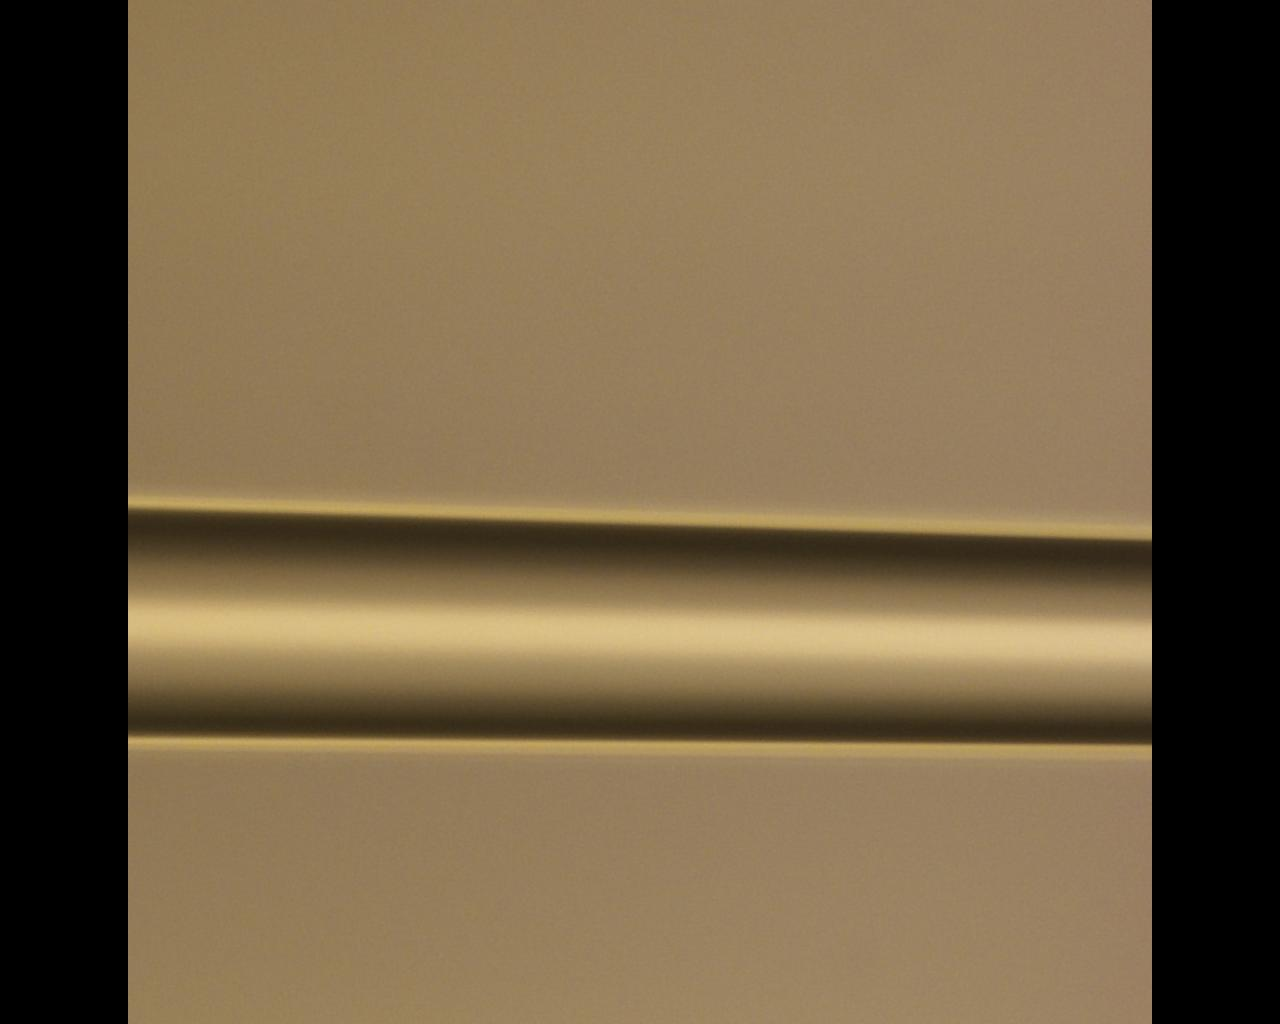fiber: (128, 620, 1152, 958)
